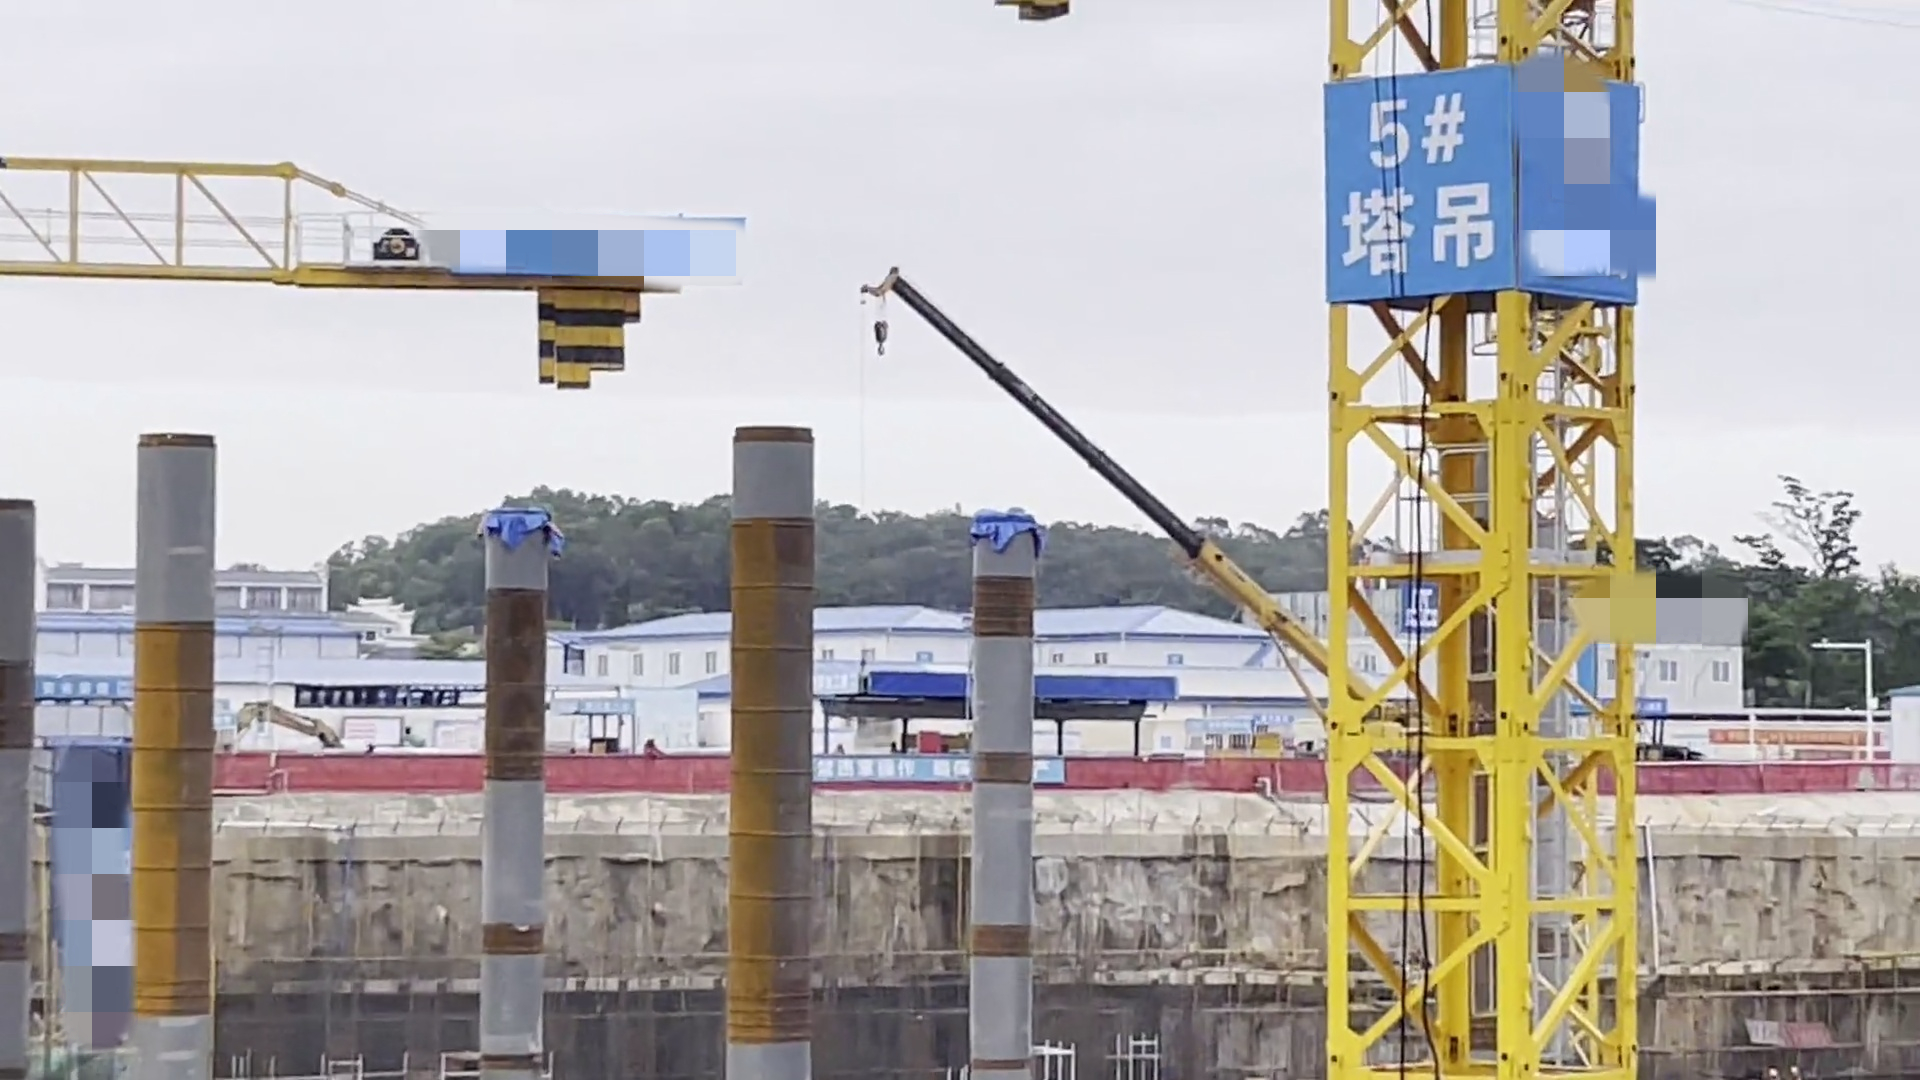hook: (835, 257, 910, 356)
slogan: (1320, 73, 1643, 301), (814, 731, 1329, 808), (214, 728, 498, 828), (452, 222, 703, 295), (1640, 750, 1919, 814), (535, 742, 738, 818), (819, 749, 1083, 802)
